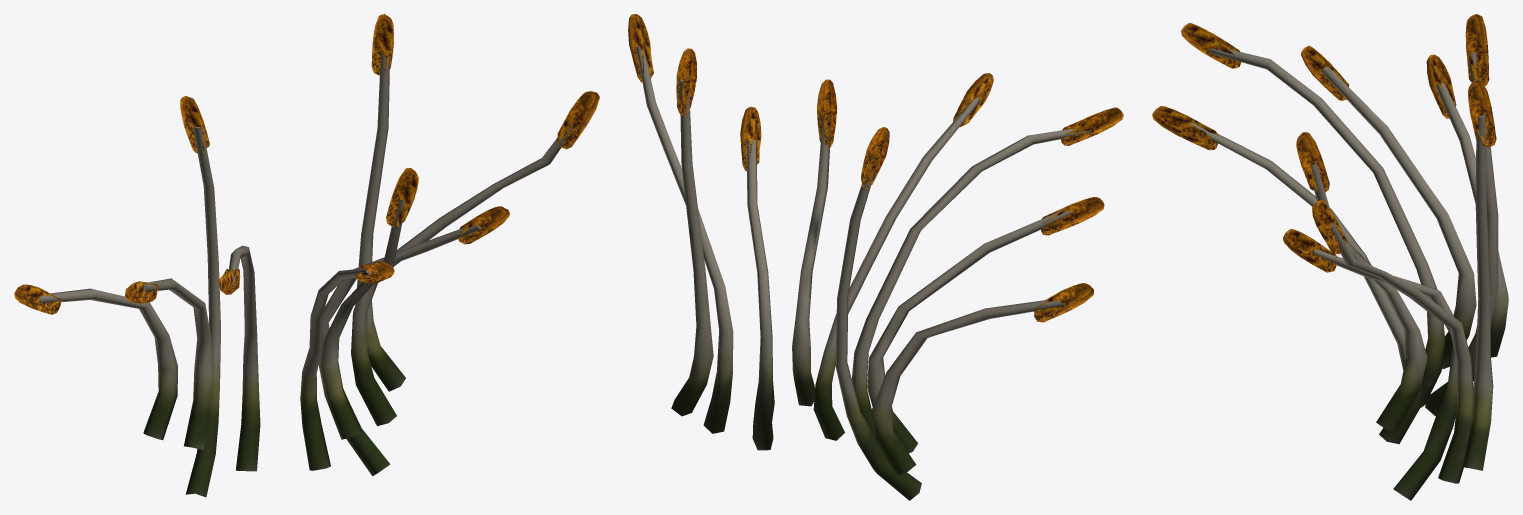
The model's file is Filament_01.gltf.
3 views of the same model, side by side, from view 1: azimuth 30°, elevation 25°; view 2: azimuth 150°, elevation 25°; view 3: azimuth 270°, elevation 25° (orthographic). The views are drawn at different scales.
Visible parts, largest first — view 1: Filament_01; view 2: Filament_01; view 3: Filament_01.
Part boxes in pixels (left/top/right/bottom): Filament_01: left=14, top=14, right=599, bottom=497; Filament_01: left=628, top=14, right=1123, bottom=500; Filament_01: left=1152, top=14, right=1508, bottom=500.
Size of the model in its own units: 12.03 by 9.23 by 6.79.
Materials: 2 (2 with a texture image).
